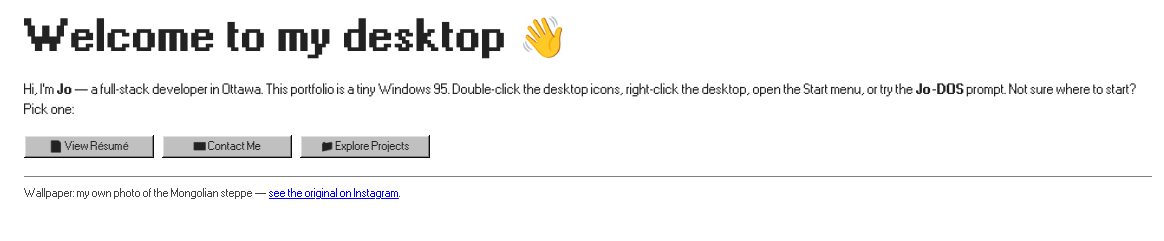
it: WelcomeApp › opens the résumé when its CTA is clicked
Click the button "📄 View Résumé": {"x": 89, "y": 146} [24,135,154,158]
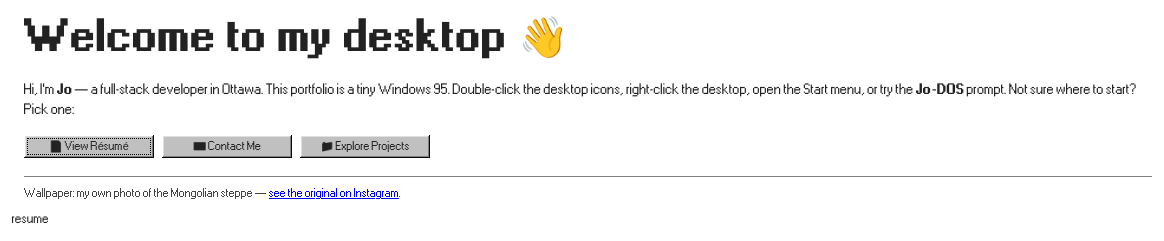
Check: the text with test id "apps" reads "resume", box [12,212,49,224]
